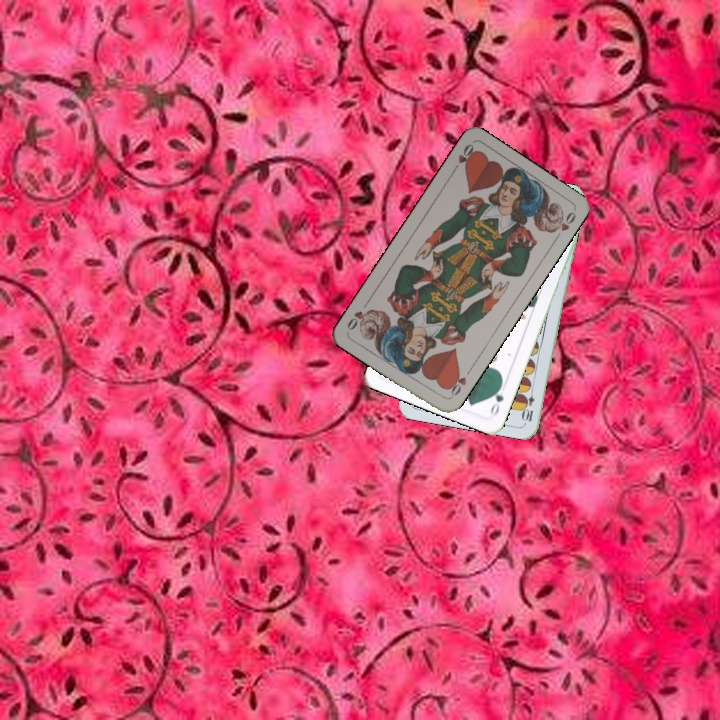E10: (520, 383, 537, 424)
GO: (486, 379, 506, 418)
HO: (443, 365, 474, 401), (448, 140, 479, 176)
